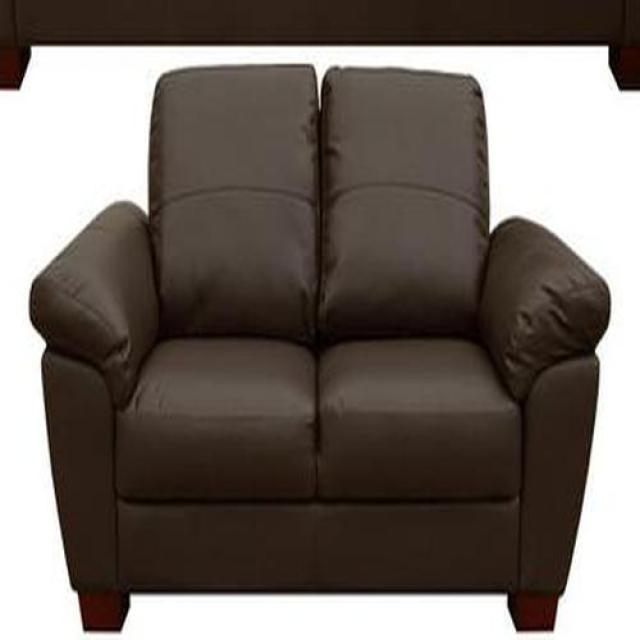sofa: (28, 61, 611, 634)
